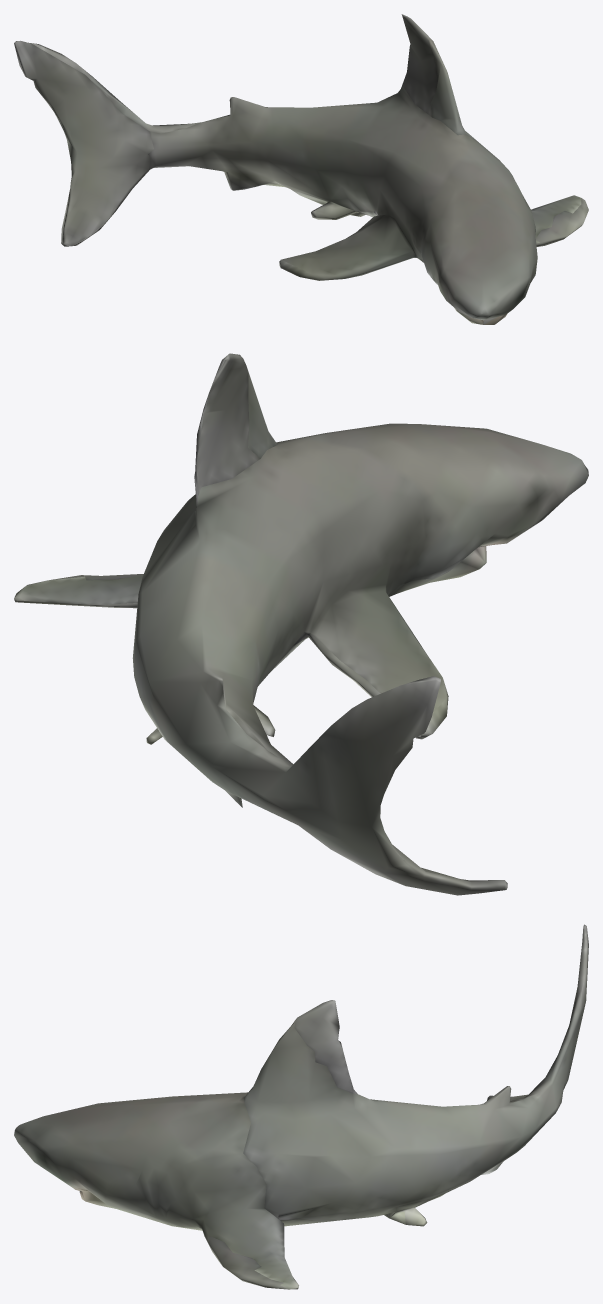
The model's file is Weisshai_Great_White_Shark-medium.glb.
3 views of the same model, one above another, from view 1: azimuth 30°, elevation 25°; view 2: azimuth 150°, elevation 25°; view 3: azimuth 270°, elevation 25° (orthographic). The views are drawn at different scales.
Parts seen in each view (by area): view 1: Weisshai_Great_White_Shark; view 2: Weisshai_Great_White_Shark; view 3: Weisshai_Great_White_Shark.
Boxes of the visible parts, x1=… form: Weisshai_Great_White_Shark: x1=14, y1=14, x2=588, y2=324; Weisshai_Great_White_Shark: x1=14, y1=353, x2=588, y2=895; Weisshai_Great_White_Shark: x1=14, y1=924, x2=588, y2=1289.
Bounding box in the file's own units: 0.1437 × 0.0747 × 0.1668.
Materials: 1 (1 with a texture image).
